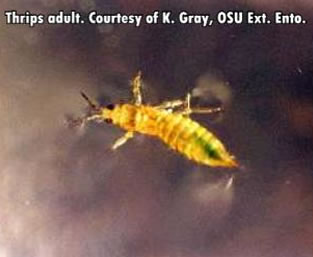Thrips: (72, 66, 256, 180)
